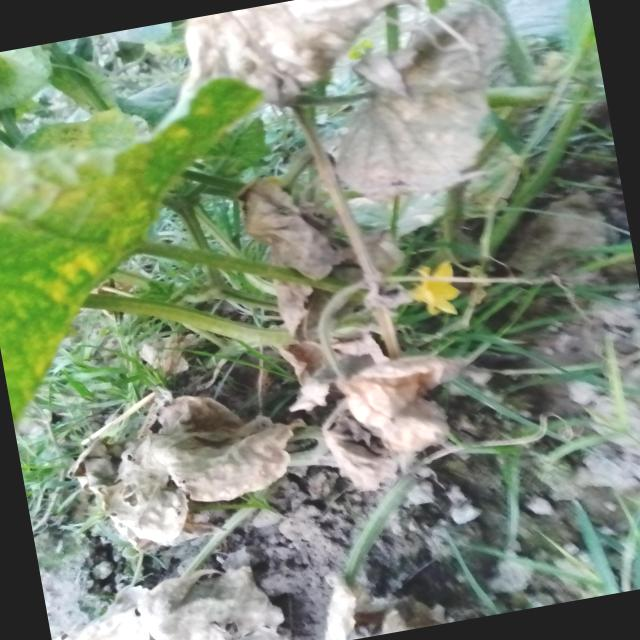cucumber_bacterial: (77, 361, 310, 546), (334, 32, 530, 224), (301, 315, 496, 472), (174, 0, 415, 110), (41, 540, 279, 640)
